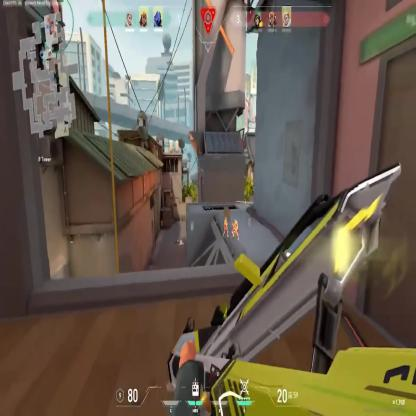enemy: (231, 217, 239, 240), (223, 216, 230, 238)
enemy_head: (234, 218, 236, 223), (225, 217, 227, 221)
